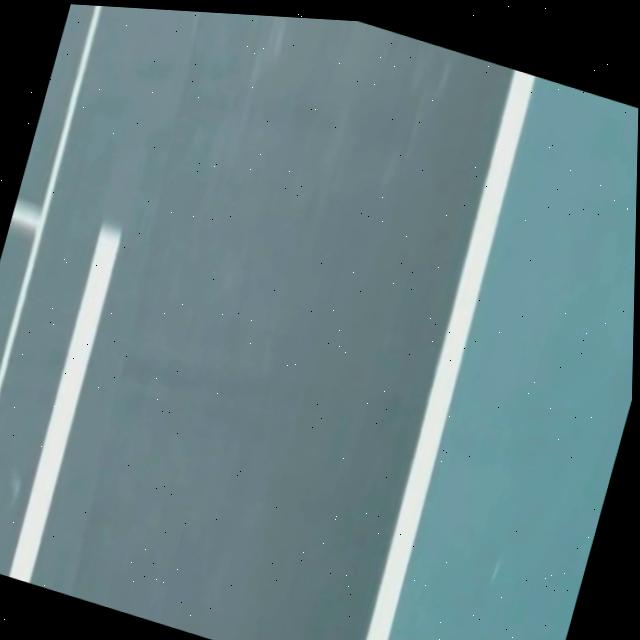center: (9, 225, 121, 583)
left: (366, 69, 536, 640)
